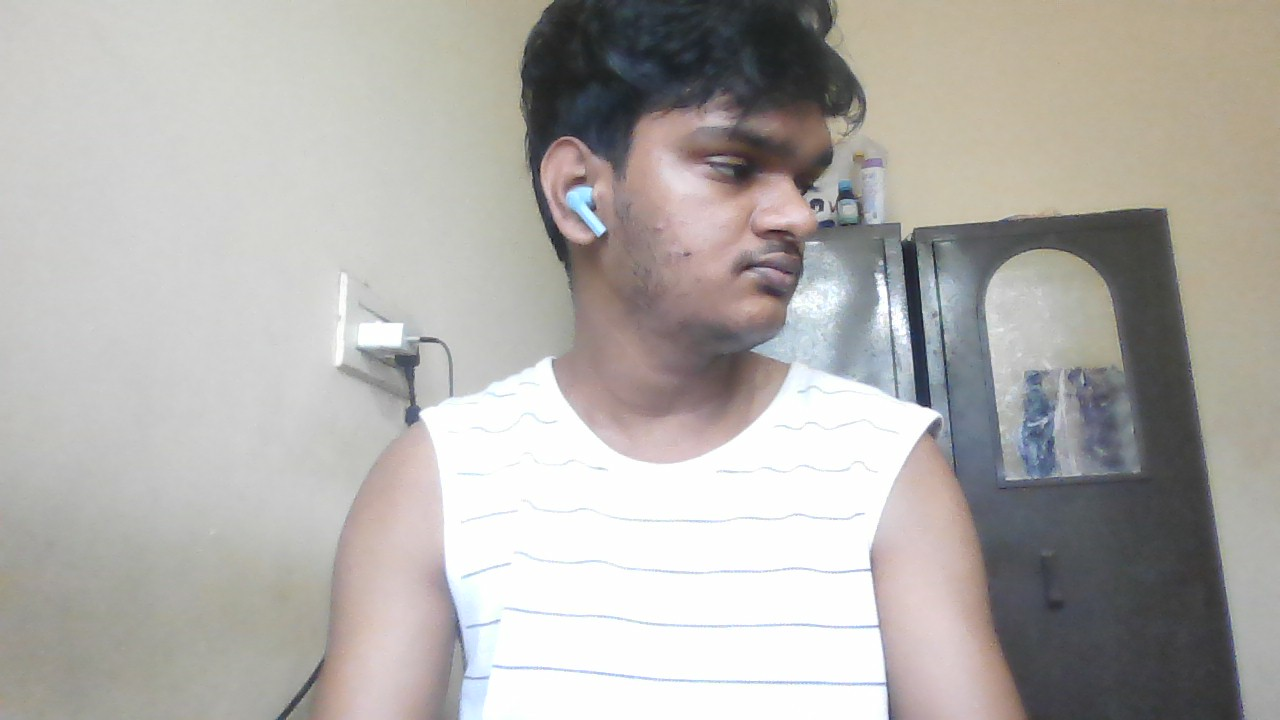earphone: (567, 184, 611, 238)
